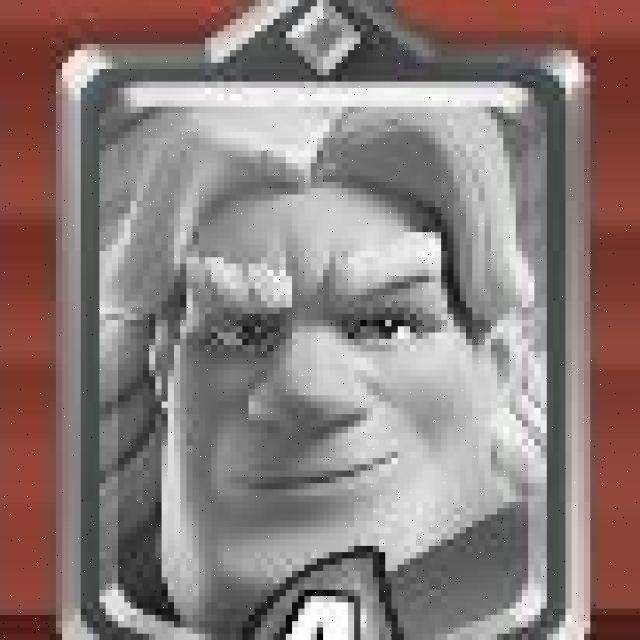Golden_Knight: (52, 45, 590, 640)
